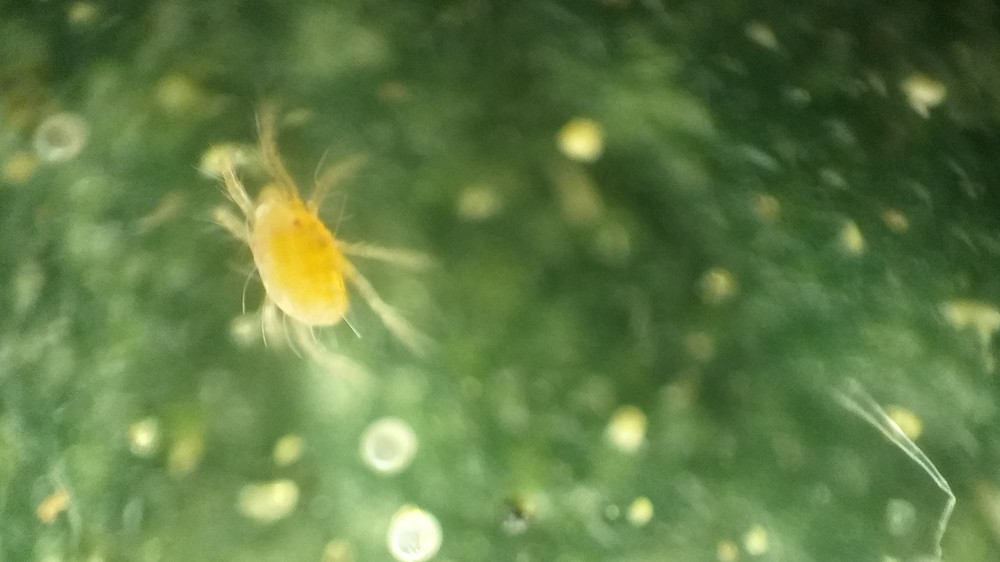Aracnido Rojo: (179, 101, 473, 380)
